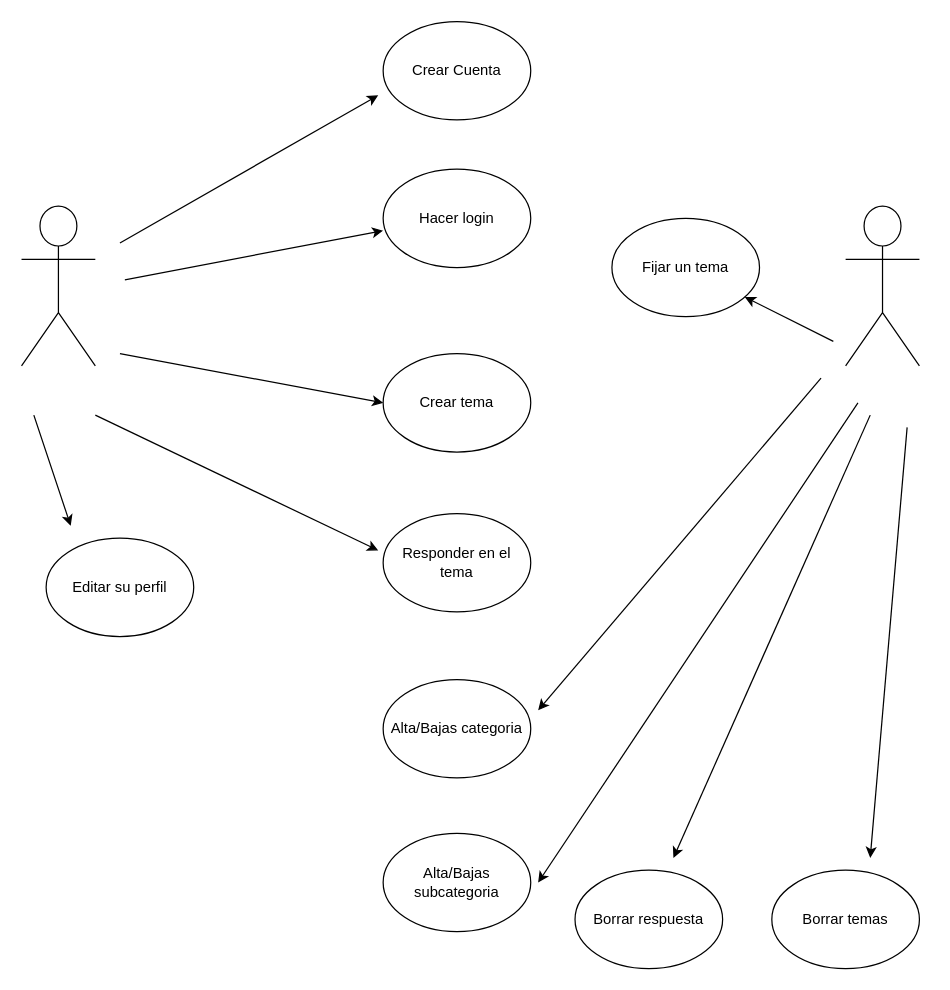
Some shapes in this 950 by 990 pixel diagram are drawn without their labels. Each missing label, with the box of its shape:
Administrador: (844, 205, 919, 366)
Usuario: (20, 205, 95, 366)
